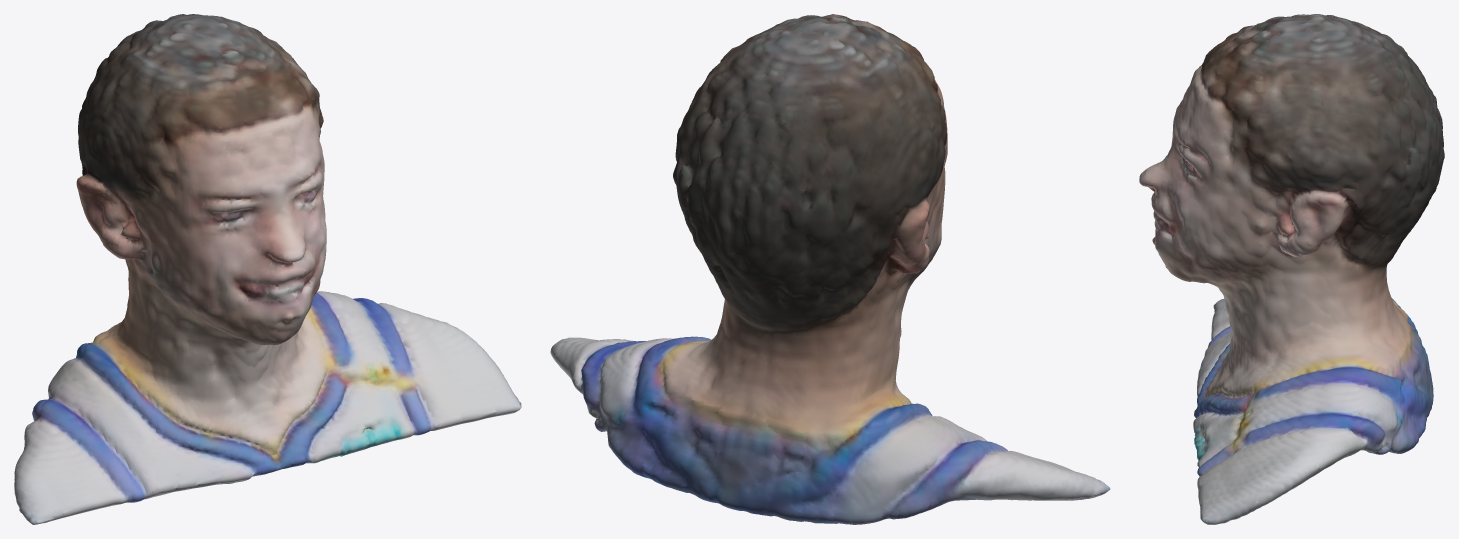
3 views of the same model, side by side, from view 1: azimuth 30°, elevation 25°; view 2: azimuth 150°, elevation 25°; view 3: azimuth 270°, elevation 25° (orthographic). The views are drawn at different scales.
Parts seen in each view (by area): view 1: geometry_0; view 2: geometry_0; view 3: geometry_0.
Part boxes in pixels (x1=…): geometry_0: x1=14, y1=14, x2=521, y2=524; geometry_0: x1=550, y1=14, x2=1110, y2=524; geometry_0: x1=1139, y1=14, x2=1444, y2=524.
Size of the model in its own units: 1.01 by 0.8066 by 0.5806.
